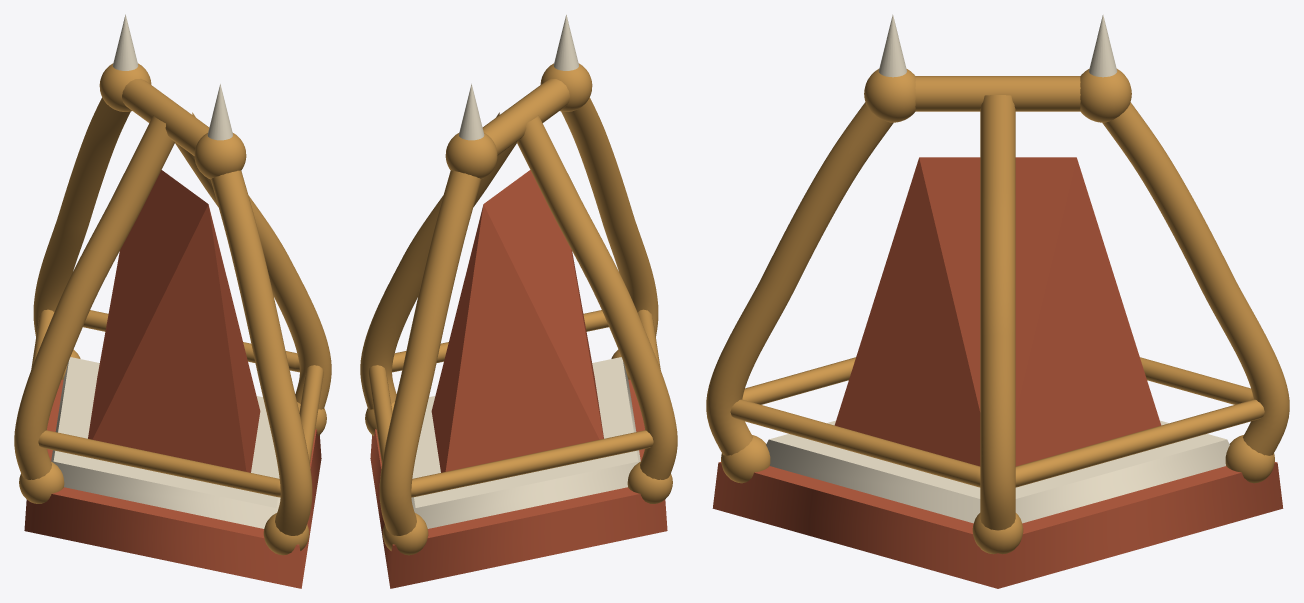
The model's file is vanguard.glb.
3 views of the same model, side by side, from view 1: azimuth 30°, elevation 25°; view 2: azimuth 150°, elevation 25°; view 3: azimuth 270°, elevation 25° (orthographic). The views are drawn at different scales.
Visible parts, largest first — view 1: core, base, rib_left, rib_front, base_step, girdle, rib_back, rib_right, ridge, apex_cap_1, apex_cap_2, rib_left_foot (+3 smaller); view 2: core, base, rib_left, rib_back, base_step, girdle, rib_front, rib_right, ridge, apex_cap_2, apex_cap_1, rib_left_foot (+3 smaller); view 3: core, base, base_step, rib_right, girdle, rib_back, rib_front, ridge, apex_cap_1, apex_cap_2, rib_front_foot, rib_back_foot (+3 smaller).
Boxes of the visible parts, <box> form: core: <box>88,170,260,472</box>; base: <box>24,379,321,588</box>; rib_left: <box>14,115,174,479</box>; rib_front: <box>210,170,312,535</box>; base_step: <box>51,357,280,528</box>; girdle: <box>31,309,323,497</box>; rib_back: <box>33,97,130,336</box>; rib_right: <box>175,112,331,409</box>; ridge: <box>122,78,209,155</box>; apex_cap_1: <box>194,133,246,179</box>; apex_cap_2: <box>99,63,151,111</box>; rib_left_foot: <box>19,461,64,503</box>; core: <box>431,170,603,472</box>; base: <box>370,379,667,588</box>; rib_left: <box>517,115,677,479</box>; rib_back: <box>379,170,481,535</box>; base_step: <box>411,357,640,528</box>; girdle: <box>368,309,660,497</box>; rib_front: <box>561,97,658,336</box>; rib_right: <box>360,112,516,409</box>; ridge: <box>482,78,569,155</box>; apex_cap_2: <box>445,133,497,179</box>; apex_cap_1: <box>540,63,592,111</box>; rib_left_foot: <box>627,461,672,503</box>; core: <box>834,157,1161,466</box>; base: <box>712,462,1283,588</box>; base_step: <box>766,420,1229,523</box>; rib_right: <box>980,95,1015,530</box>; girdle: <box>730,357,1264,487</box>; rib_back: <box>1102,102,1289,455</box>; rib_front: <box>706,102,893,455</box>; ridge: <box>915,76,1080,111</box>; apex_cap_1: <box>864,69,915,122</box>; apex_cap_2: <box>1080,69,1131,122</box>; rib_front_foot: <box>721,435,770,483</box>; rib_back_foot: <box>1225,435,1274,483</box>.
Size of the model in its own units: 0.0237 by 0.0322 by 0.0344.
